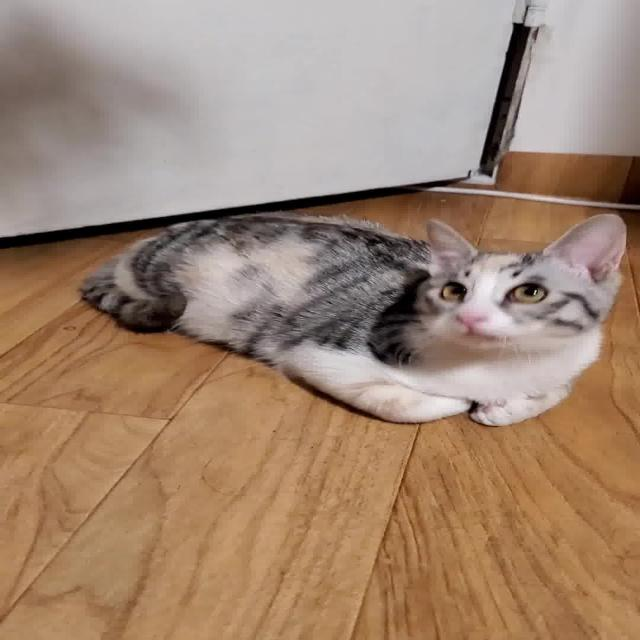cat: (68, 192, 637, 434)
